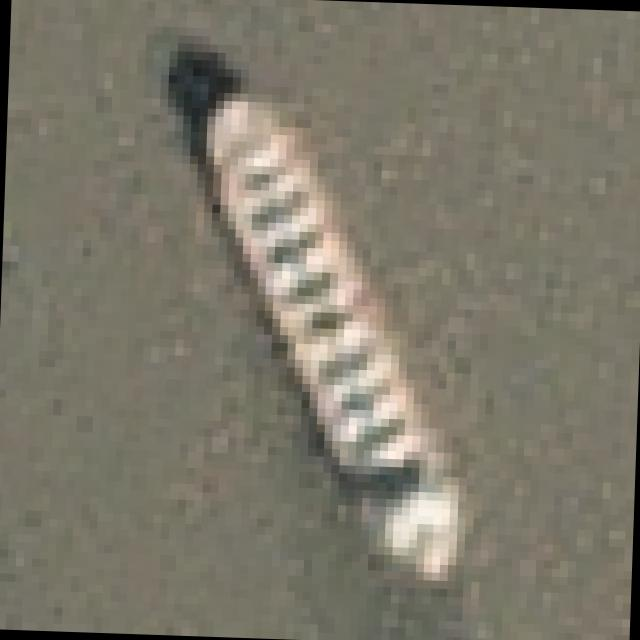ship: (110, 34, 527, 598)
